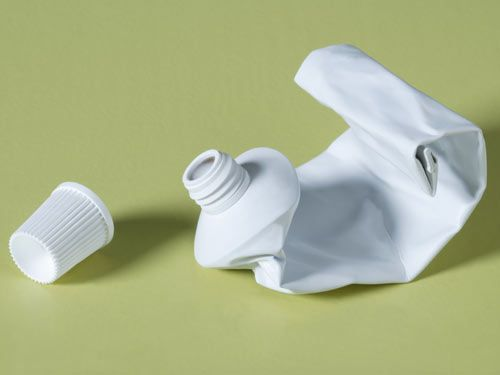Nonrec_Plastic: (157, 25, 496, 319), (11, 169, 119, 289)
